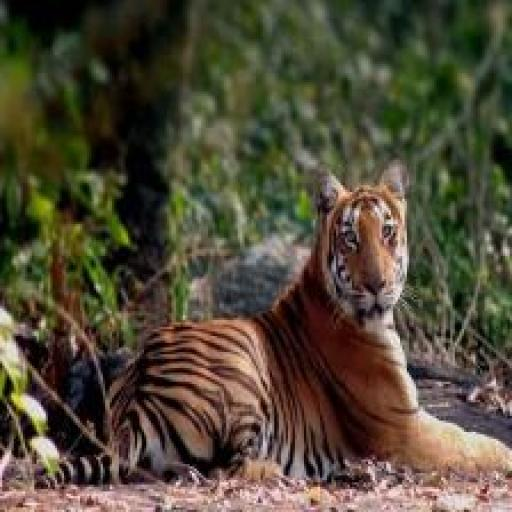Tiger: (39, 121, 512, 512)
